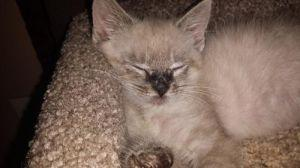siamese: (93, 1, 215, 121)
